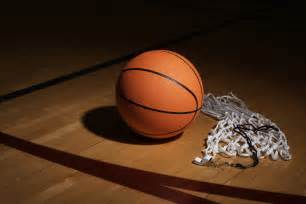basketball: (116, 49, 205, 140)
